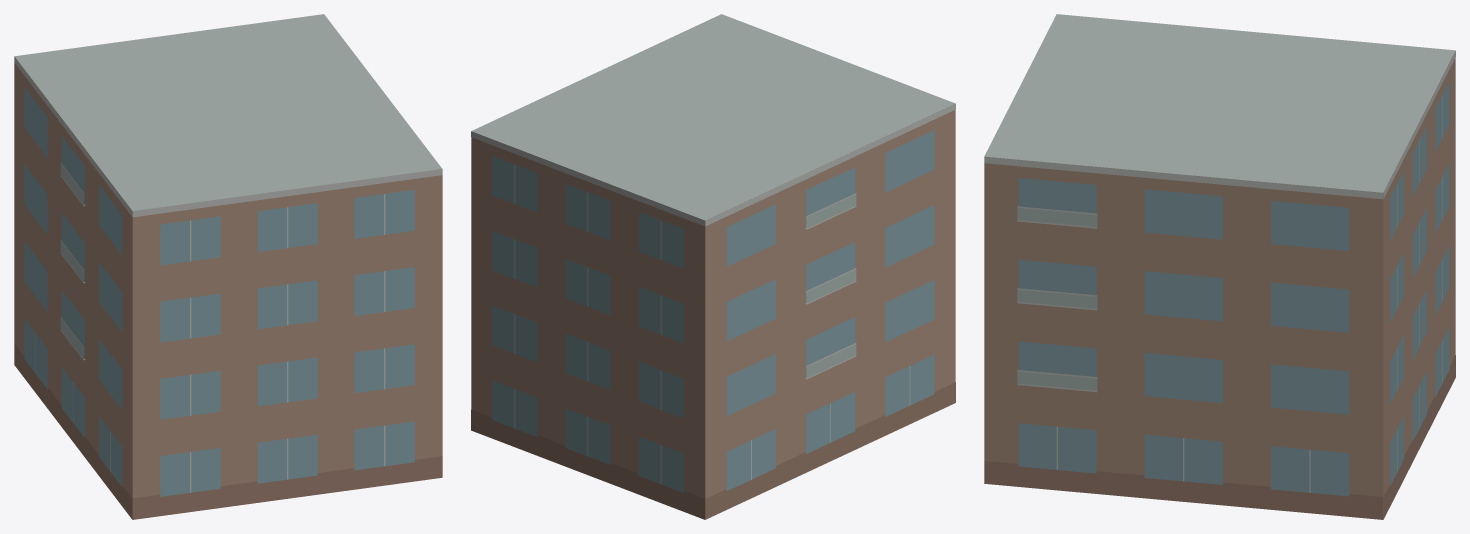
File: residential-a05560b5-687b-40e8-8dab-4b82a970b606.glb
3 views of the same model, side by side, from view 1: azimuth 30°, elevation 25°; view 2: azimuth 150°, elevation 25°; view 3: azimuth 270°, elevation 25° (orthographic). The views are drawn at different scales.
Visible parts, largest first — view 1: residential-a05560b5-687b-40e8-8dab-4b82a970b606.tmp; view 2: residential-a05560b5-687b-40e8-8dab-4b82a970b606.tmp; view 3: residential-a05560b5-687b-40e8-8dab-4b82a970b606.tmp.
Boxes of the visible parts, x1,y1,x2,y2 form: residential-a05560b5-687b-40e8-8dab-4b82a970b606.tmp: [14, 14, 442, 519]; residential-a05560b5-687b-40e8-8dab-4b82a970b606.tmp: [471, 14, 955, 519]; residential-a05560b5-687b-40e8-8dab-4b82a970b606.tmp: [984, 14, 1455, 519].
Bounding box in the file's own units: 14.31 × 12.2 × 15.95.
